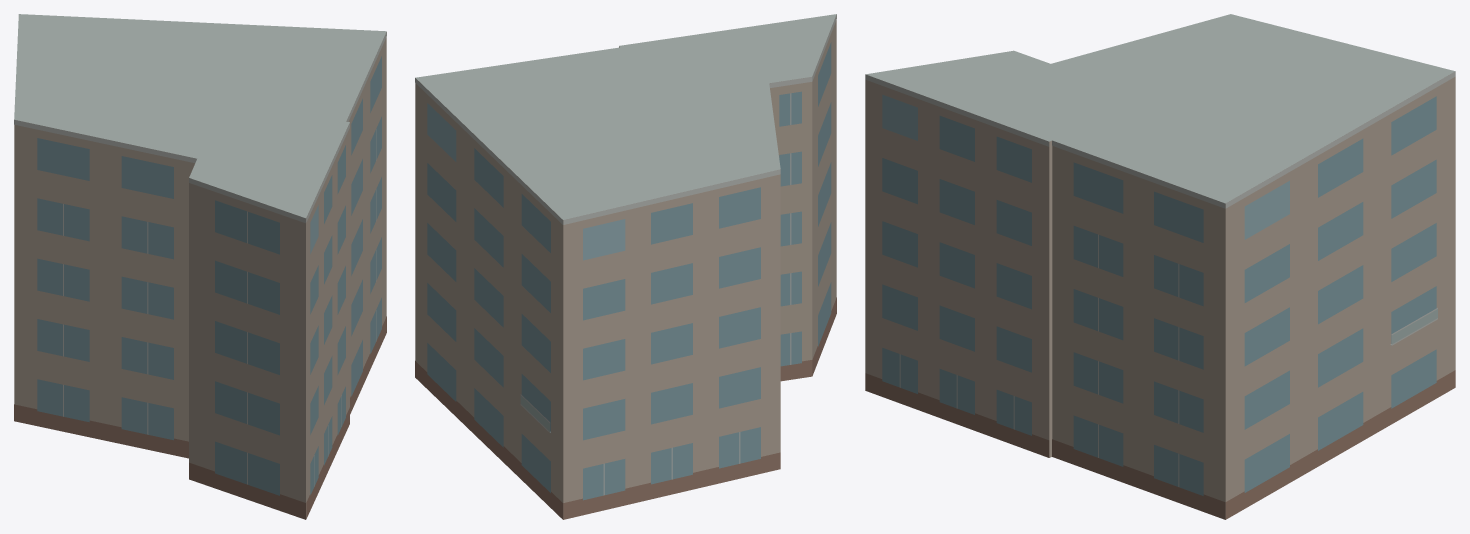
The model's file is survey-upis-32746915.glb.
3 renders of one model, left to right at view 1: azimuth 30°, elevation 25°; view 2: azimuth 150°, elevation 25°; view 3: azimuth 270°, elevation 25°, orthographic. The views are drawn at different scales.
Visible parts, largest first — view 1: survey-upis-32746915.tmp; view 2: survey-upis-32746915.tmp; view 3: survey-upis-32746915.tmp.
Boxes of the visible parts, x1,y1,x2,y2 form: survey-upis-32746915.tmp: (14,14,386,519); survey-upis-32746915.tmp: (415,14,836,519); survey-upis-32746915.tmp: (865,14,1455,519).
Bounding box in the file's own units: 18.76 × 14.6 × 24.69.
